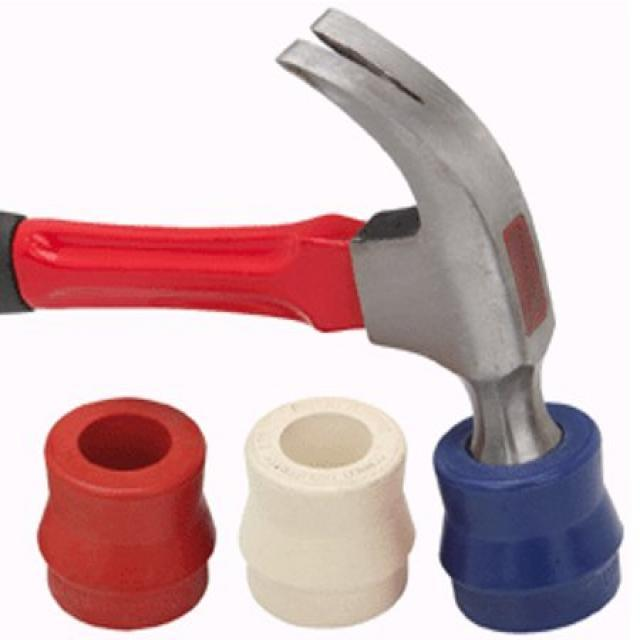hammer: (0, 0, 572, 480)
